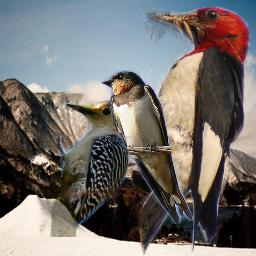Swallow: (100, 70, 193, 224)
Woodpecker: (120, 6, 251, 255), (46, 93, 152, 237)
